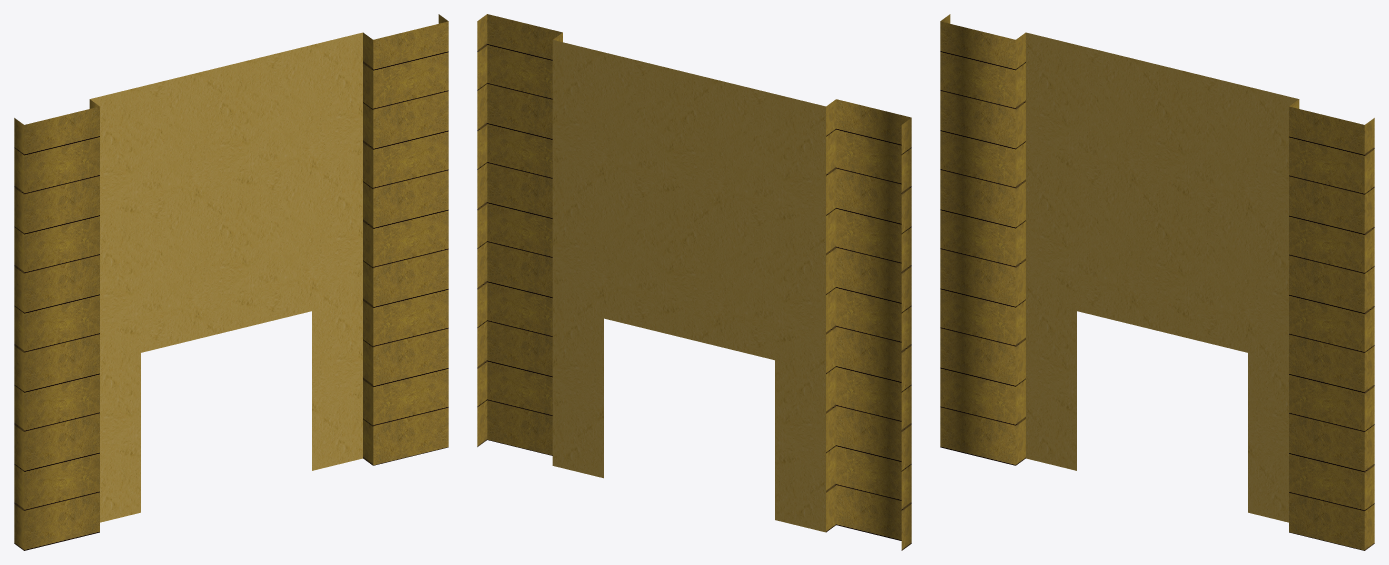
Rendered from sandstoneWallDoorway.obj.
3 renders of one model, left to right at view 1: azimuth 30°, elevation 25°; view 2: azimuth 150°, elevation 25°; view 3: azimuth 330°, elevation 25°, orthographic.
Visible parts, largest first — view 1: panel_wall_two_sided_doorway; view 2: panel_wall_two_sided_doorway; view 3: panel_wall_two_sided_doorway.
Boxes of the visible parts, x1,y1,x2,y2 form: panel_wall_two_sided_doorway: (14, 14, 448, 550); panel_wall_two_sided_doorway: (477, 14, 911, 550); panel_wall_two_sided_doorway: (940, 14, 1374, 550).
Bounding box in the file's own units: 730 × 700 × 30.
Materials: 2 (2 with a texture image).
